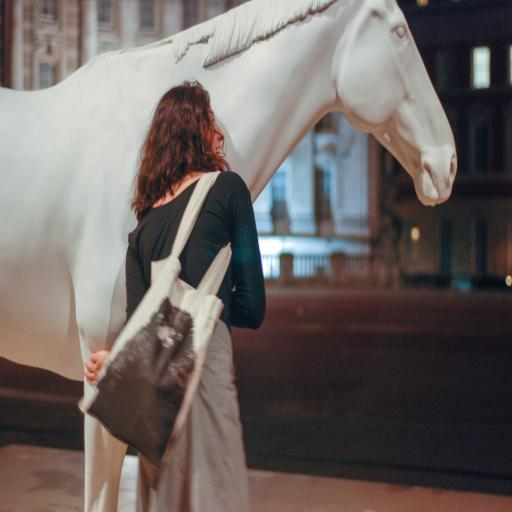Horse: (0, 0, 457, 511)
